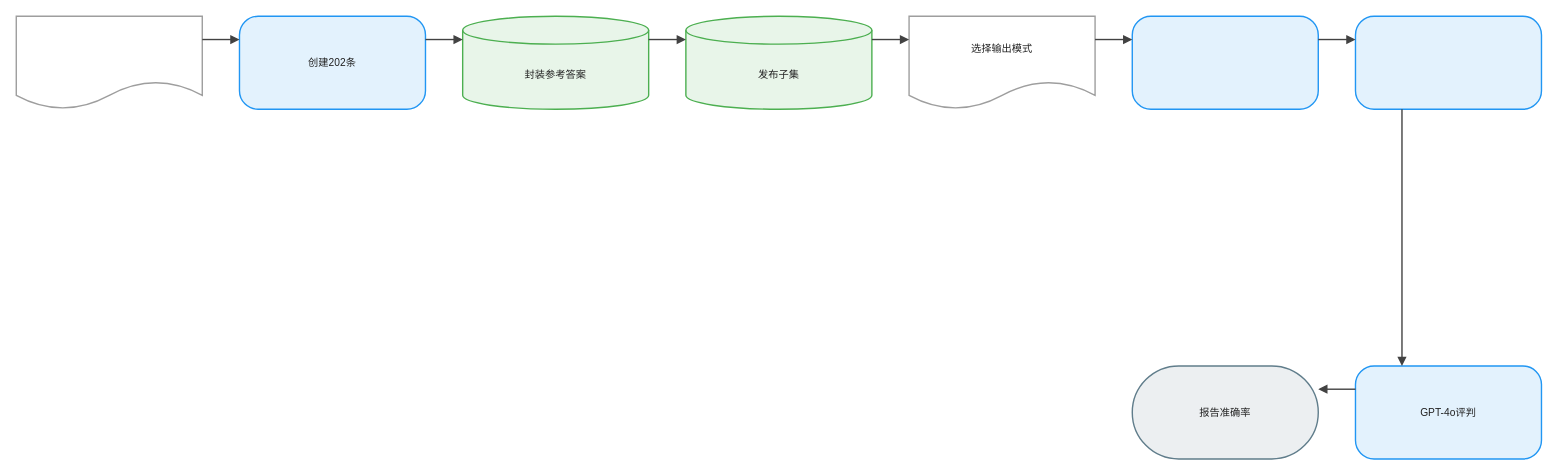
This 1559x476 diagram has some shape labels left out. Here are the shapes that lost their labels. From the top down, the centre of each, then its label:
At (x=109, y=62): "定义音频推理".
At (x=1225, y=62): "运行音频问题".
At (x=1448, y=62): "合并输出文本".
